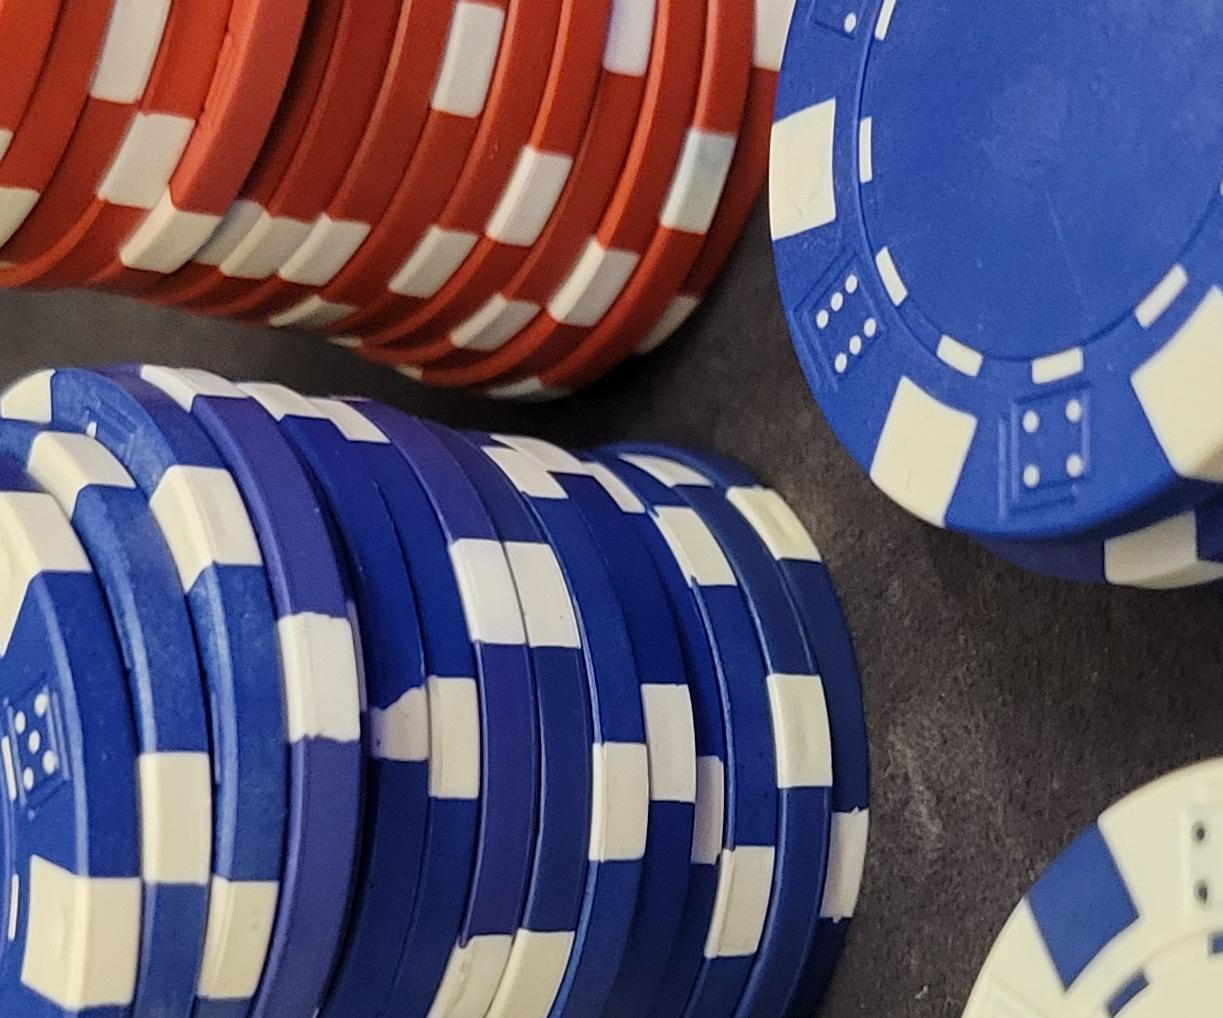Chip: (1, 243, 579, 1018)
